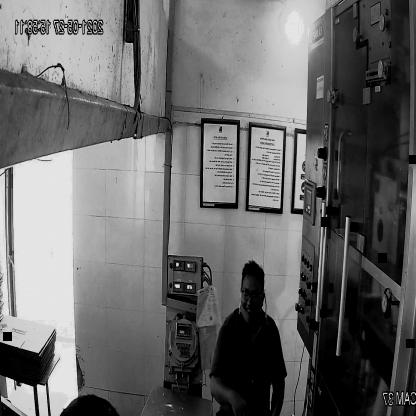goggles: (236, 283, 267, 304)
